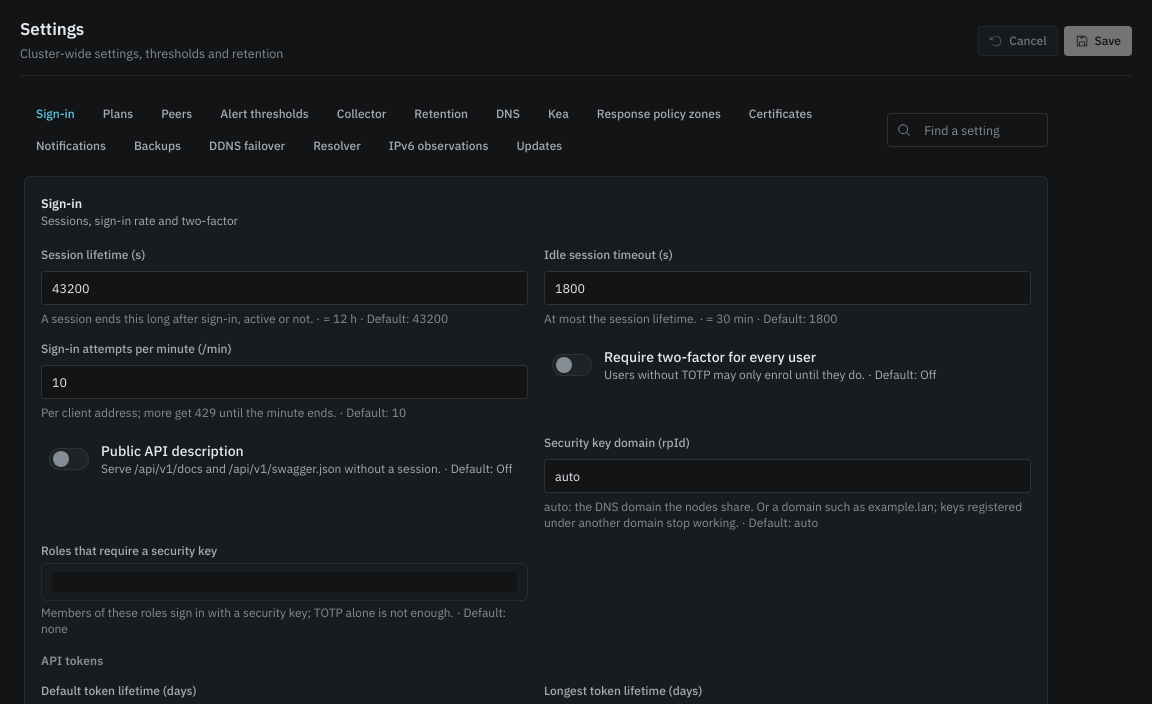
Test case: SettingsPage › shows one form per domain with units, defaults and help
Check: the number field labelled "Session lifetime (s)" holds "43200", box x1=41 y1=271 x2=528 y2=305
Check: the text "= 12 h · Default: 43200" is shown, box x1=41 y1=311 x2=448 y2=326
Click the tab with test id "settings-tab-checks". click: (265, 114)
box: x1=208 y1=100 x2=321 y2=128
(page scrolled)
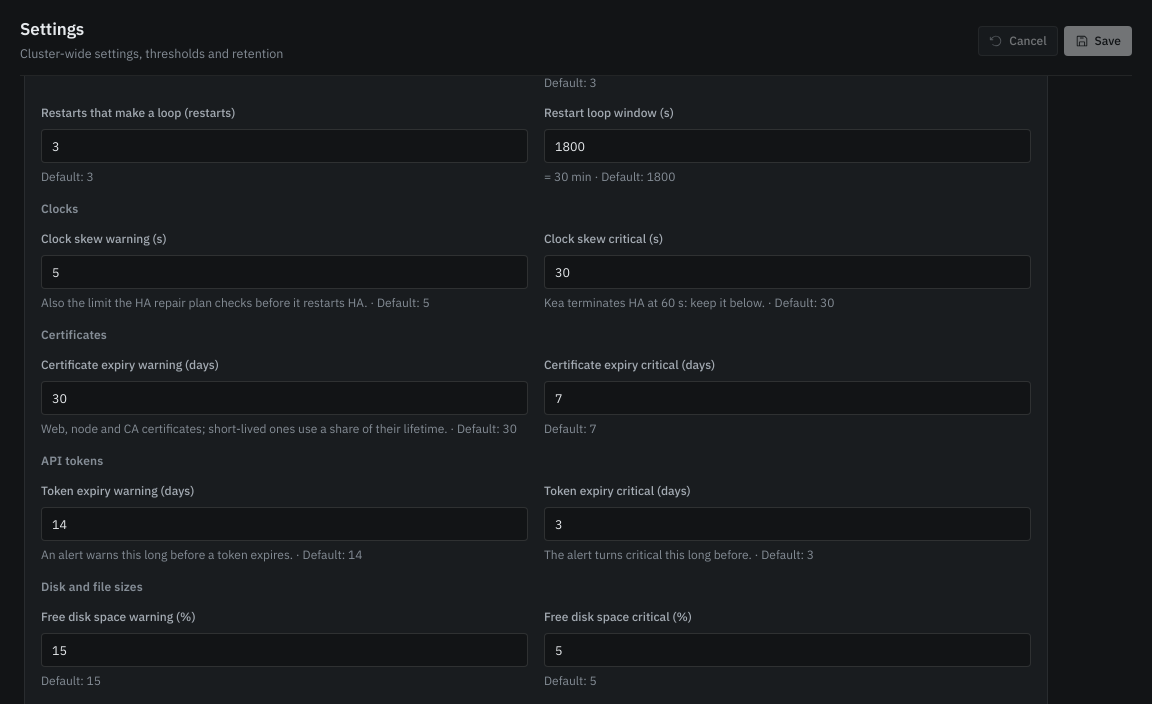
Check: the number field labelled "Clock skew critical (s)" holds "30", box x1=544 y1=255 x2=1031 y2=289
Check: the number field labelled "Certificate expiry warning (days)" holds "30", box x1=41 y1=381 x2=528 y2=415
